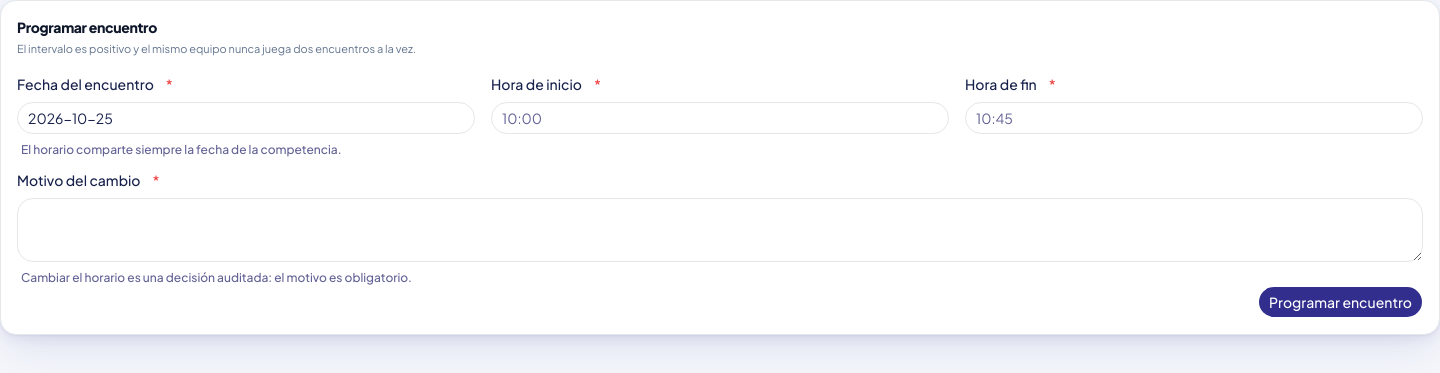
Test: CompetenciaProgramacionEditor › rechaza una hora que no existe
Type "25:00" into the field labelled "Hora de inicio *". click: (720, 118)
box: [491,102,949,134]
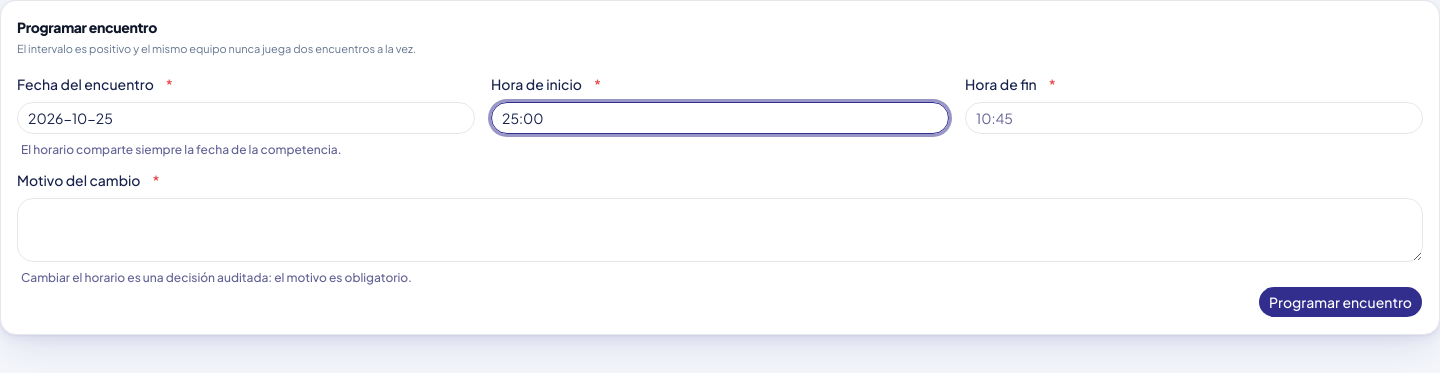
Click the button "Programar encuentro". click: (1340, 302)
box: [1258,286,1423,318]
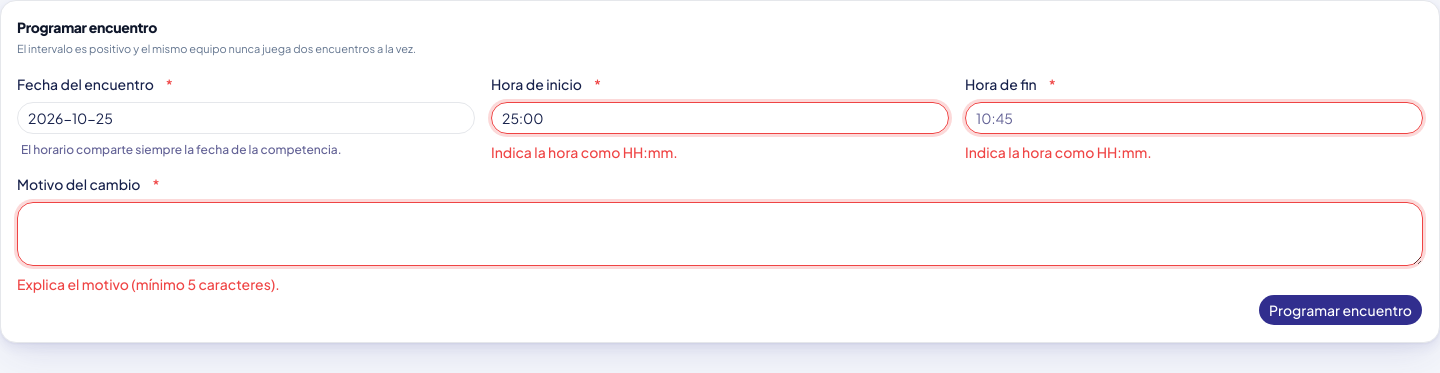
Expected: the text "Indica la hora como HH:mm." is shown 2 times, [491,142,678,160]; [965,142,1152,160]
